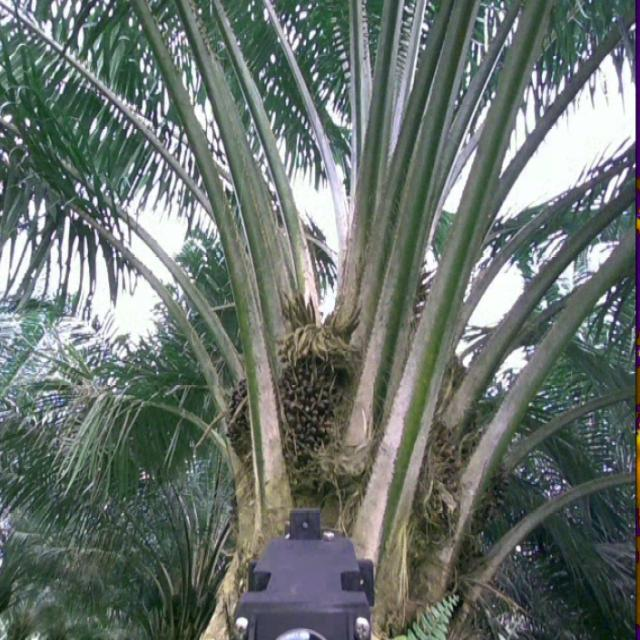palm-oil: (270, 328, 346, 473), (412, 420, 462, 546), (224, 377, 262, 487)
